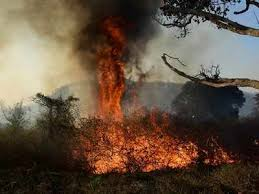fire: (88, 64, 164, 176), (46, 2, 160, 71), (141, 115, 239, 173)
